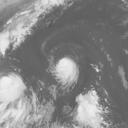cyclone: (54, 56, 80, 89)
